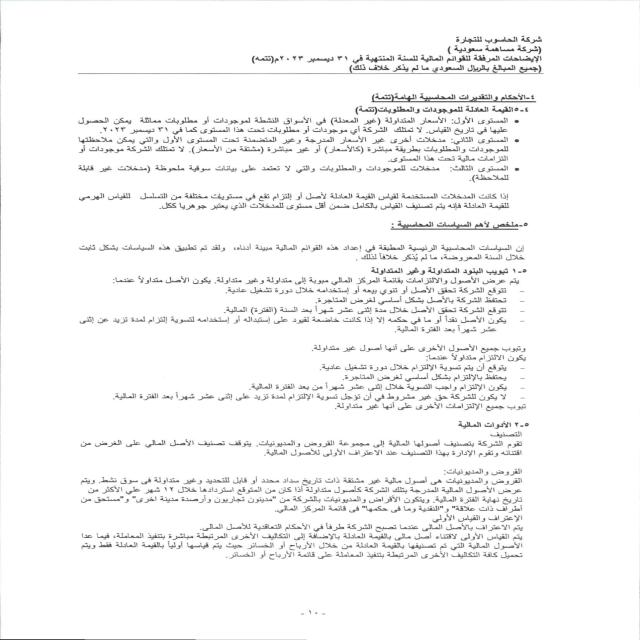notes: (420, 54, 550, 63)
text: (53, 81, 545, 581)
